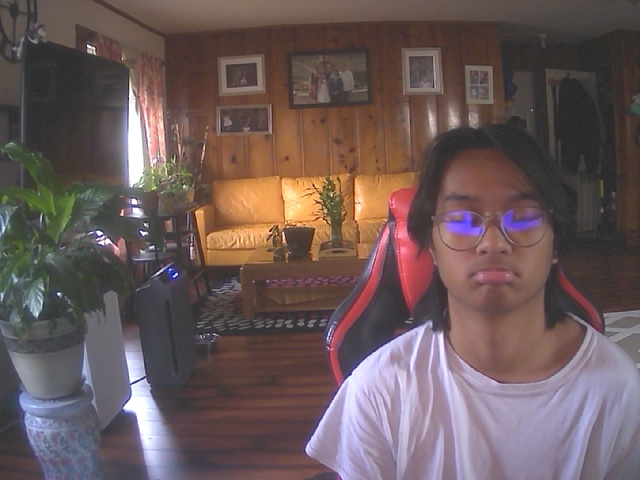sad: (423, 128, 560, 307)
